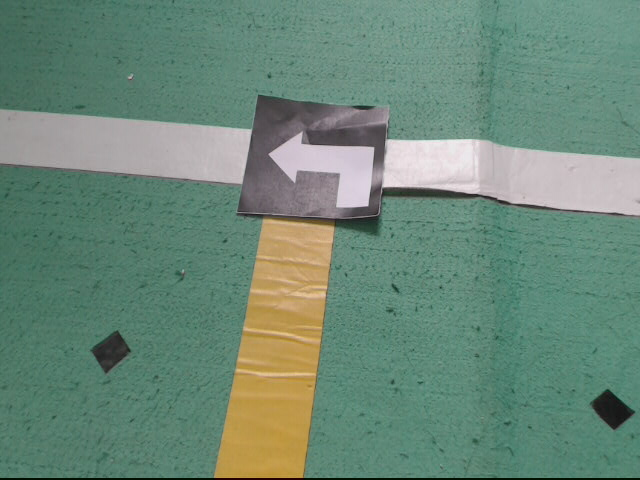left: (235, 94, 391, 218)
